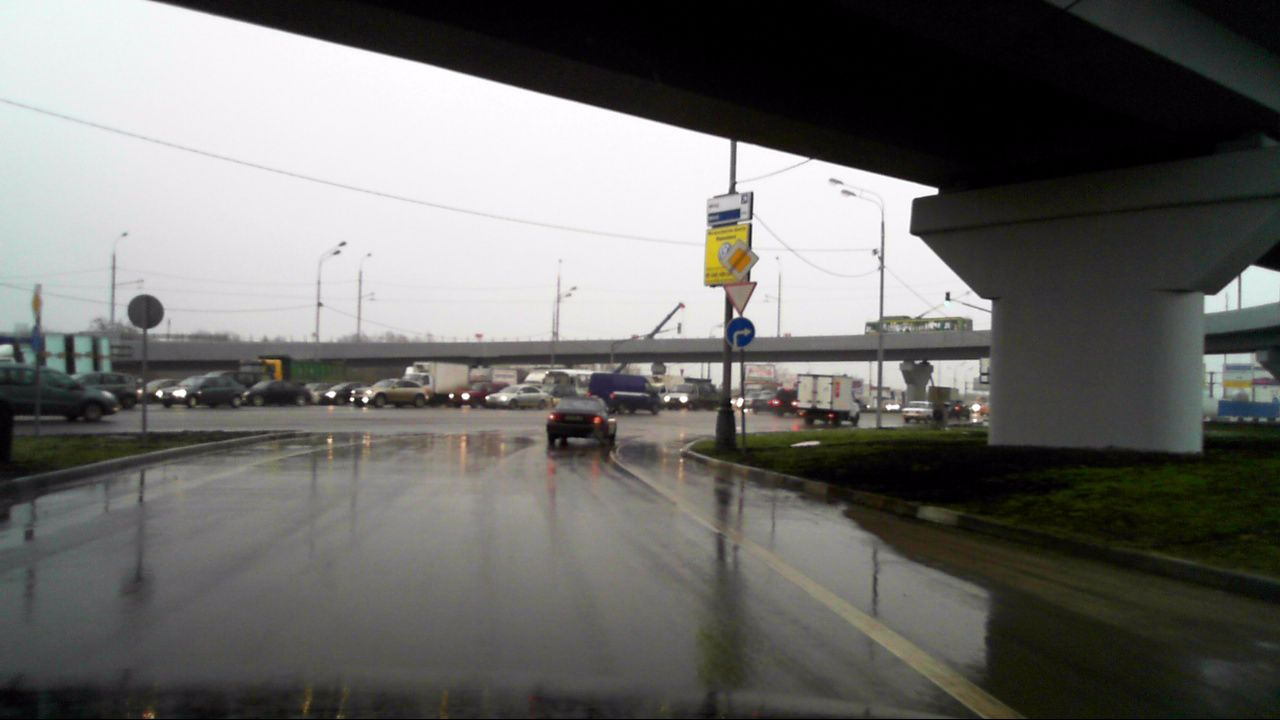main road: (722, 239, 758, 279)
